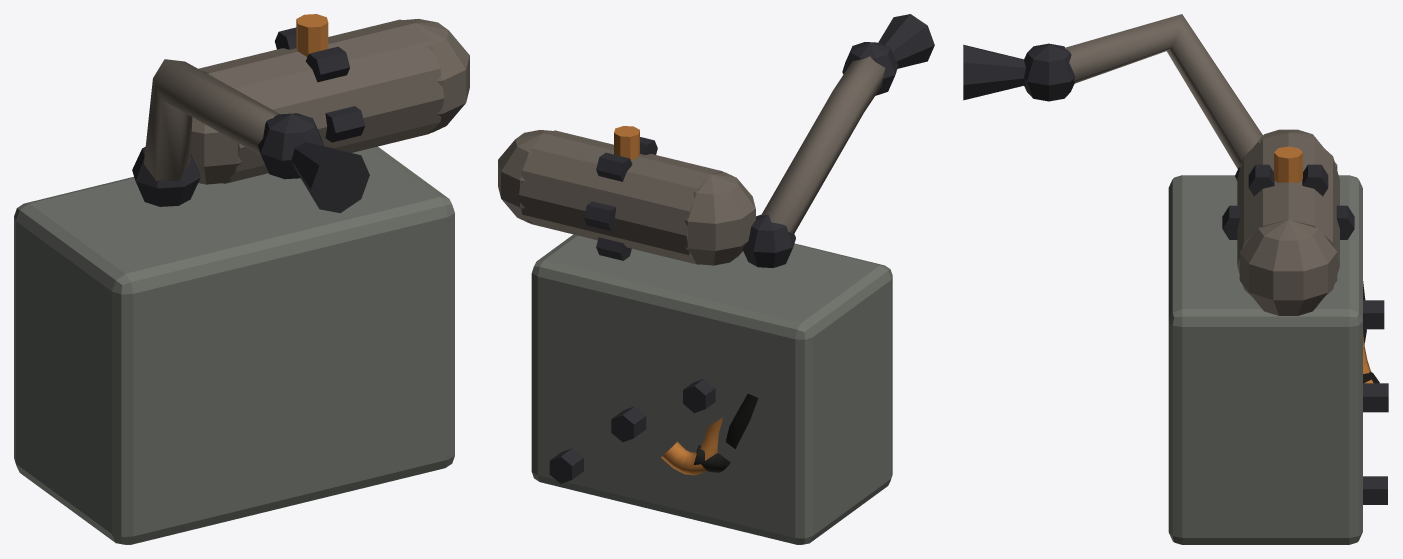
Rendered from mo_repair.glb.
3 renders of one model, left to right at view 1: azimuth 30°, elevation 25°; view 2: azimuth 150°, elevation 25°; view 3: azimuth 270°, elevation 25°, orthographic. The views are drawn at different scales.
Parts seen in each view (by area): view 1: mo_repair; view 2: mo_repair; view 3: mo_repair.
Boxes of the visible parts, <box> form: mo_repair: <box>14,14,469,544</box>; mo_repair: <box>498,14,934,544</box>; mo_repair: <box>963,14,1388,544</box>.
Bounding box in the file's own units: 0.1552 × 0.172 × 0.1603.
